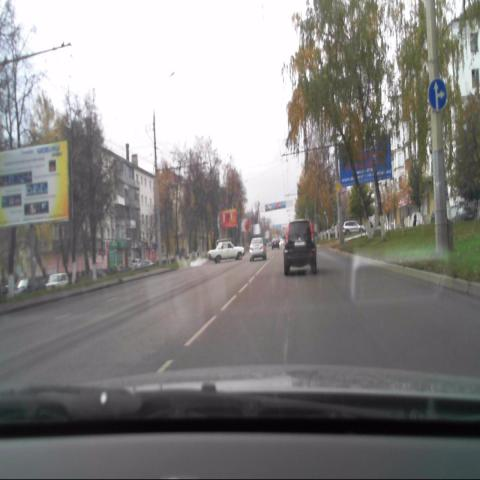4_1_4: (426, 77, 449, 113)
